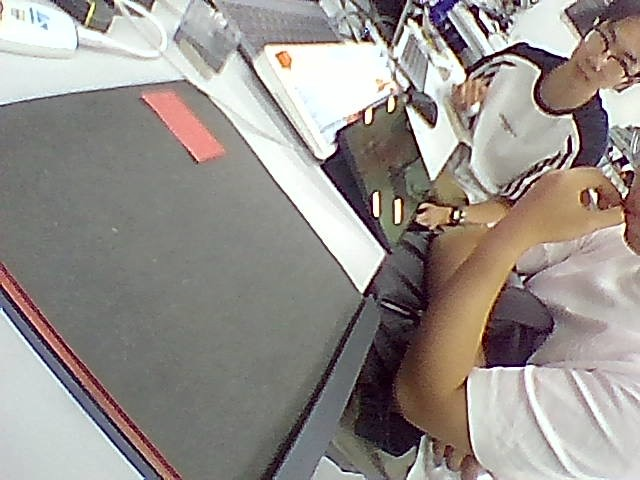card: (142, 90, 225, 162)
